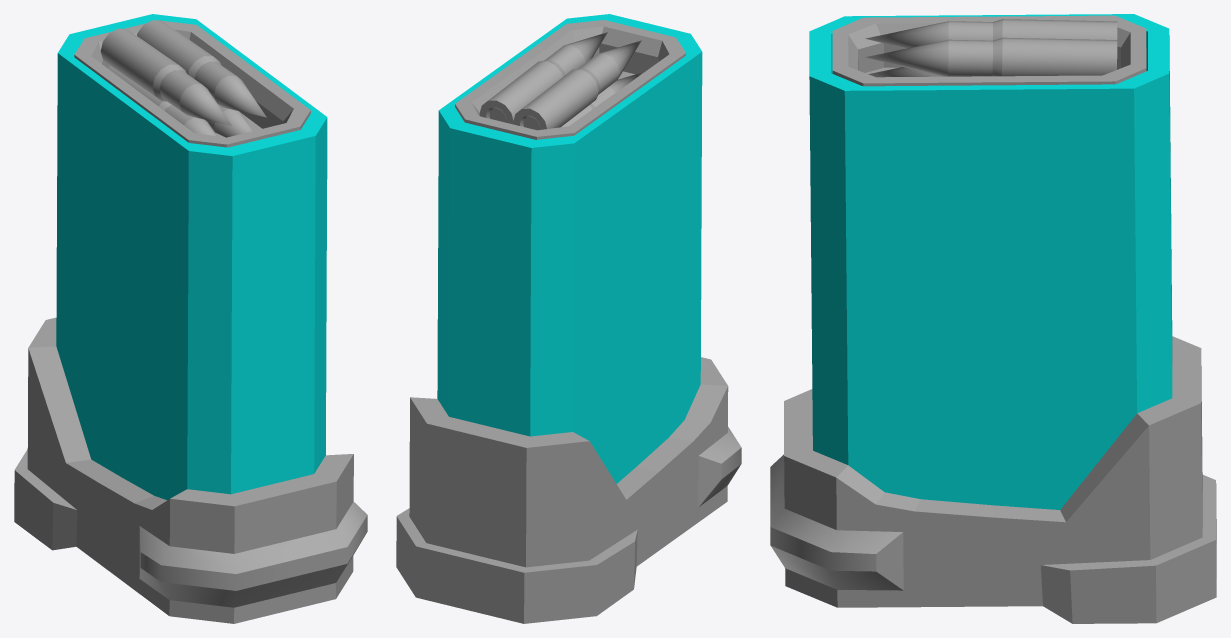
File: Sci-fi Rifle 2 Ammo.fbx
3 renders of one model, left to right at view 1: azimuth 30°, elevation 25°; view 2: azimuth 150°, elevation 25°; view 3: azimuth 270°, elevation 25°, orthographic. The views are drawn at different scales.
Parts seen in each view (by area): view 1: Sci_fi_Rifle_2_Ammo; view 2: Sci_fi_Rifle_2_Ammo; view 3: Sci_fi_Rifle_2_Ammo.
Part boxes in pixels (bbox=[...]): Sci_fi_Rifle_2_Ammo: bbox=[14, 14, 367, 623]; Sci_fi_Rifle_2_Ammo: bbox=[396, 14, 741, 623]; Sci_fi_Rifle_2_Ammo: bbox=[770, 14, 1216, 623].
Size of the model in its own units: 7.86 by 17.75 by 13.33.
